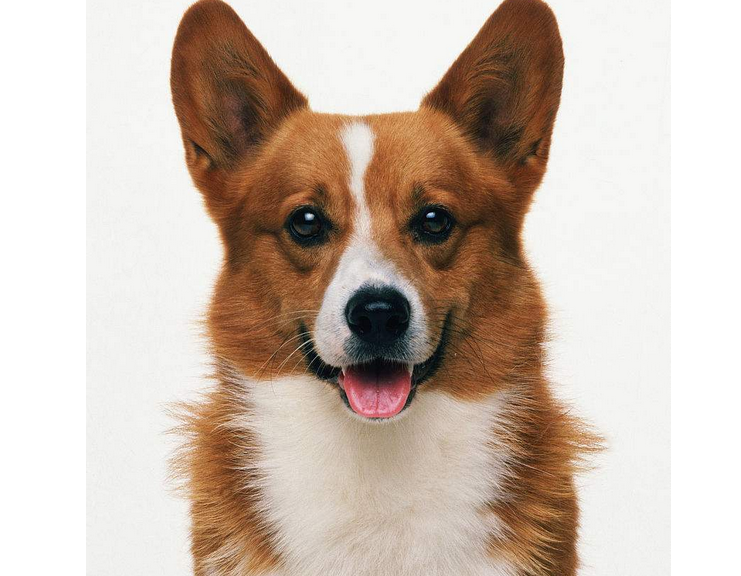nose: (341, 277, 421, 349)
